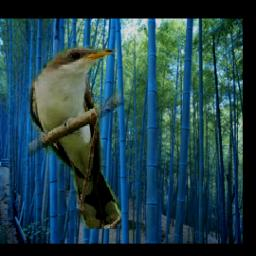Cuckoo: (28, 46, 121, 229)
